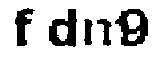9: (122, 6, 151, 49)
d: (45, 4, 80, 53)
f: (9, 5, 36, 50)
m: (81, 17, 129, 47)
